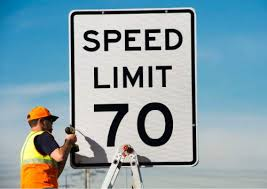70 MPH: (64, 6, 202, 170)
